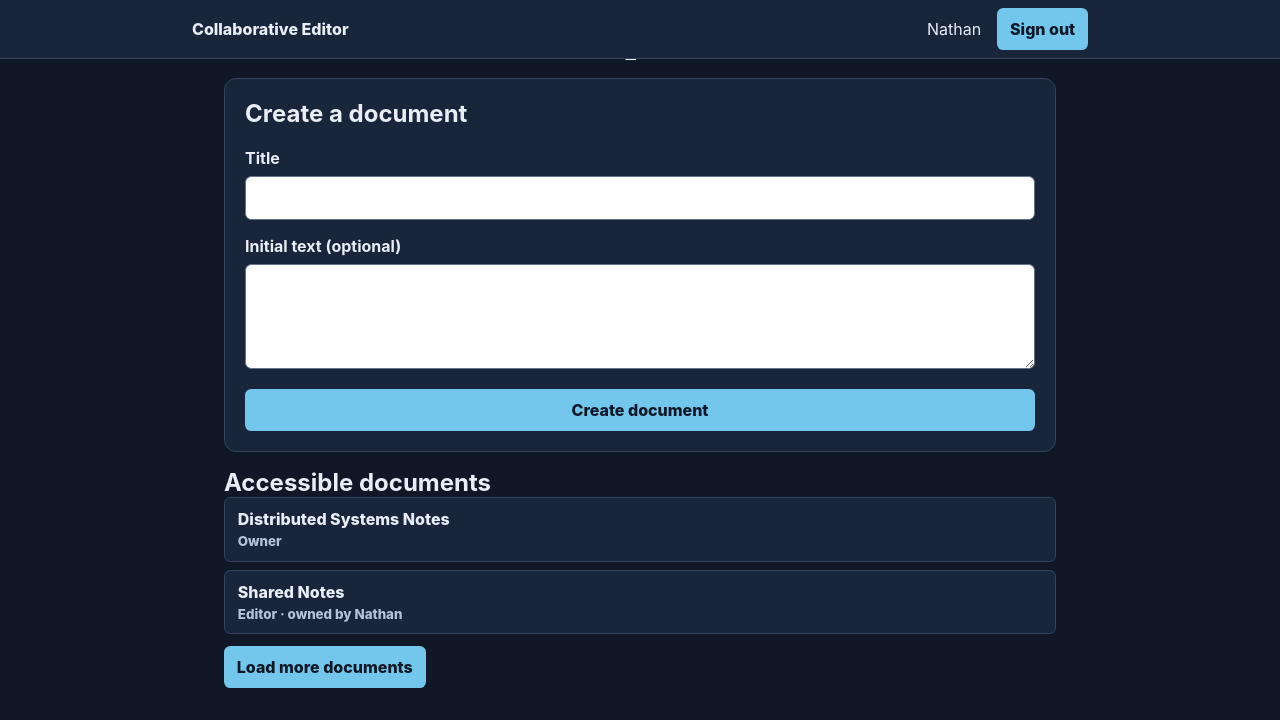
document management flows › lists accessible documents and appends the next cursor page
The width and height of the screenshot is (1280, 720).
(page scrolled)
Expected: the text "Distributed Systems Notes" is shown, left=238, top=509, right=450, bottom=529
Expected: the text "Editor · owned by Nathan" is shown, left=238, top=606, right=402, bottom=622
Click the button "Load more documents": (325, 667) left=224, top=646, right=426, bottom=688
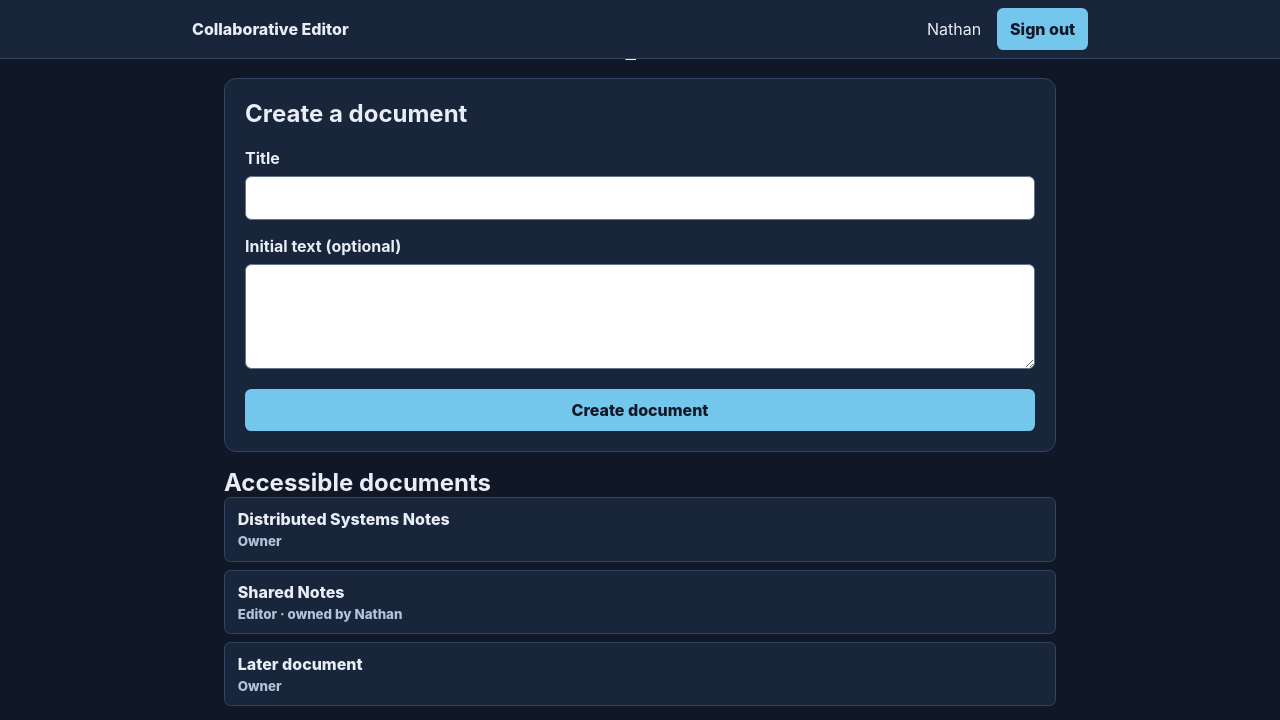
Expected: the text "Later document" is shown, left=238, top=654, right=363, bottom=674
